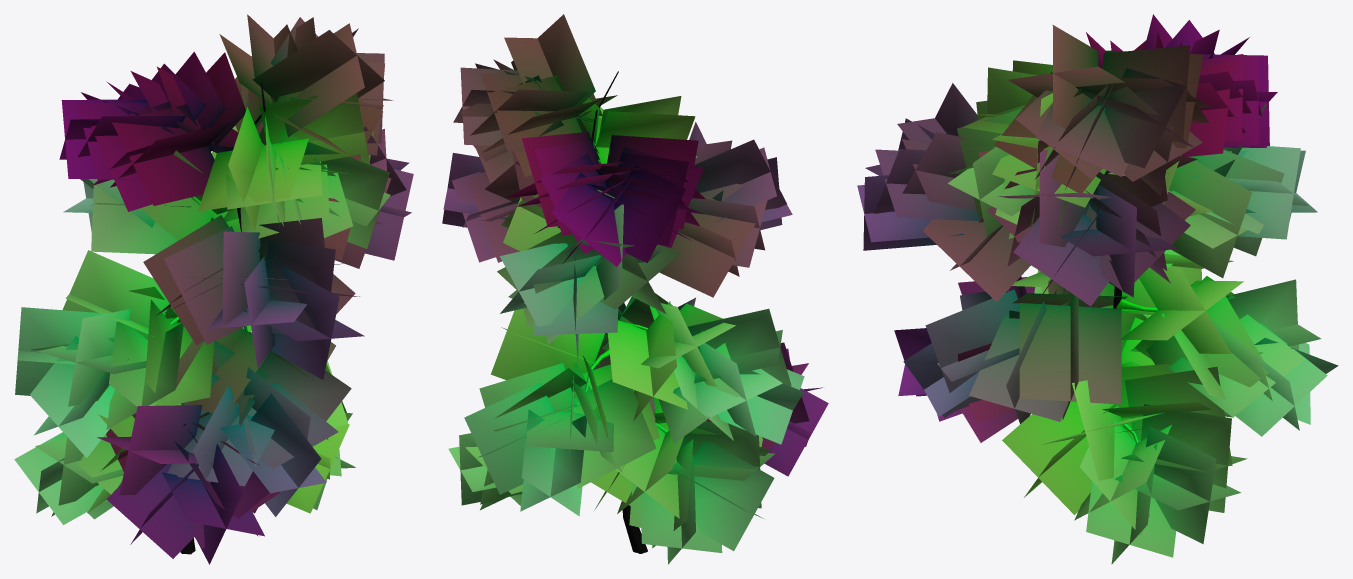
The model's file is M_P14_Tree_5.fbx.
3 views of the same model, side by side, from view 1: azimuth 30°, elevation 25°; view 2: azimuth 150°, elevation 25°; view 3: azimuth 270°, elevation 25° (orthographic). The views are drawn at different scales.
Parts seen in each view (by area): view 1: Tree_5; view 2: Tree_5; view 3: Tree_5.
Part boxes in pixels (<box>): Tree_5: <box>14,14,413,564</box>; Tree_5: <box>442,14,828,564</box>; Tree_5: <box>857,14,1338,564</box>.
Size of the model in its own units: 426 by 559 by 448.
